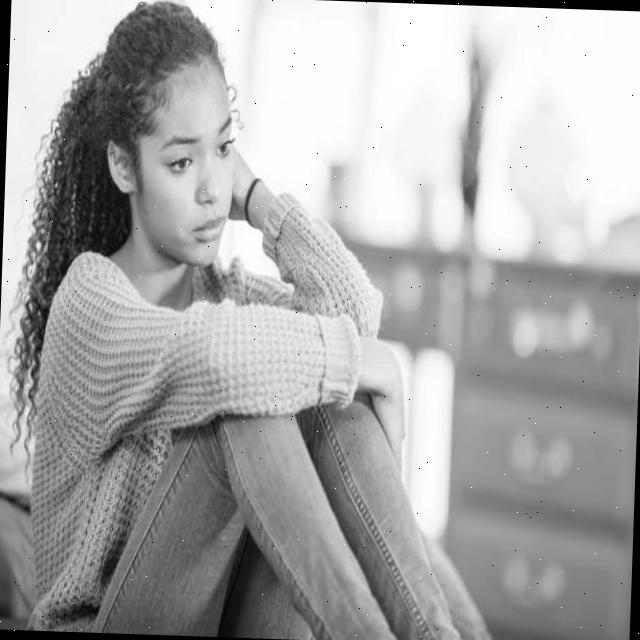Sadness: (130, 62, 241, 268)
